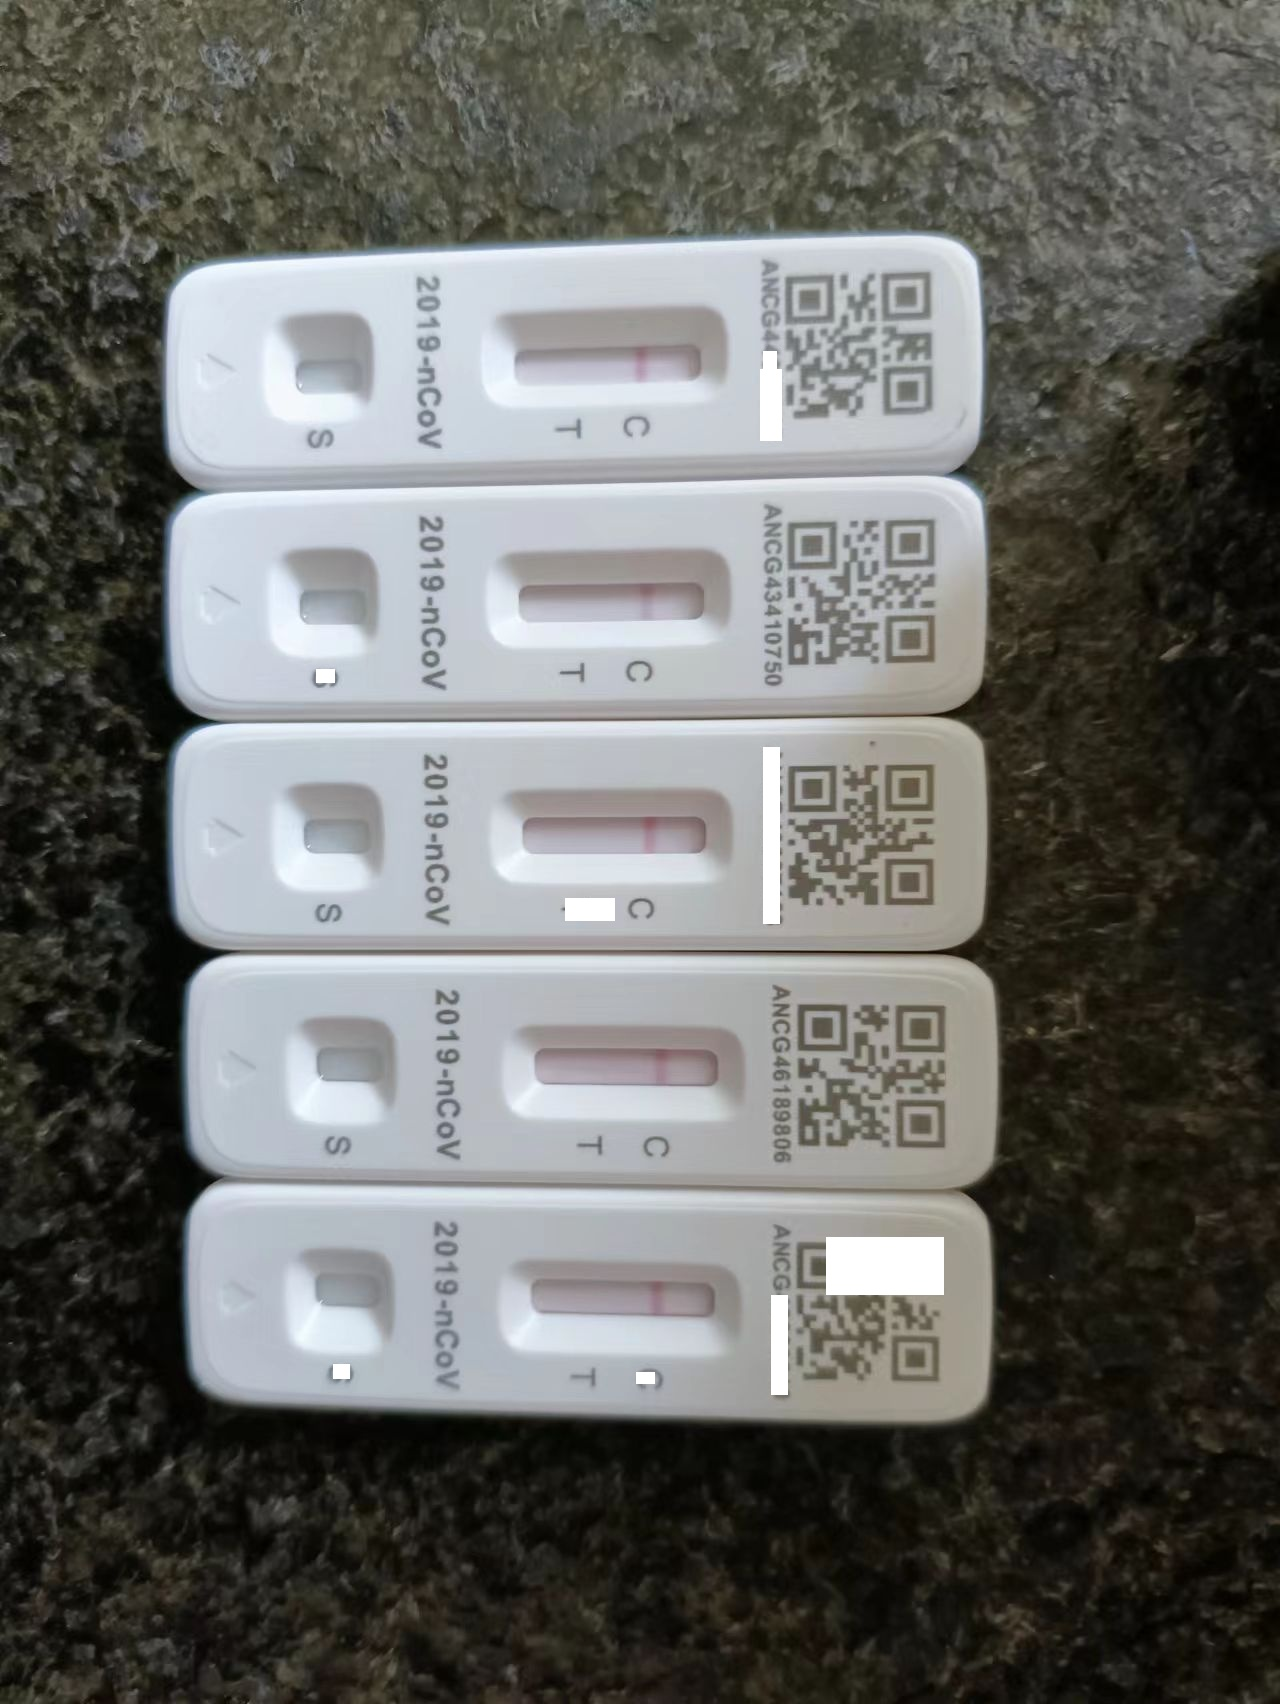negative: (485, 306, 739, 403), (488, 546, 745, 641), (491, 782, 742, 878), (497, 1023, 752, 1117), (497, 1255, 745, 1349)
